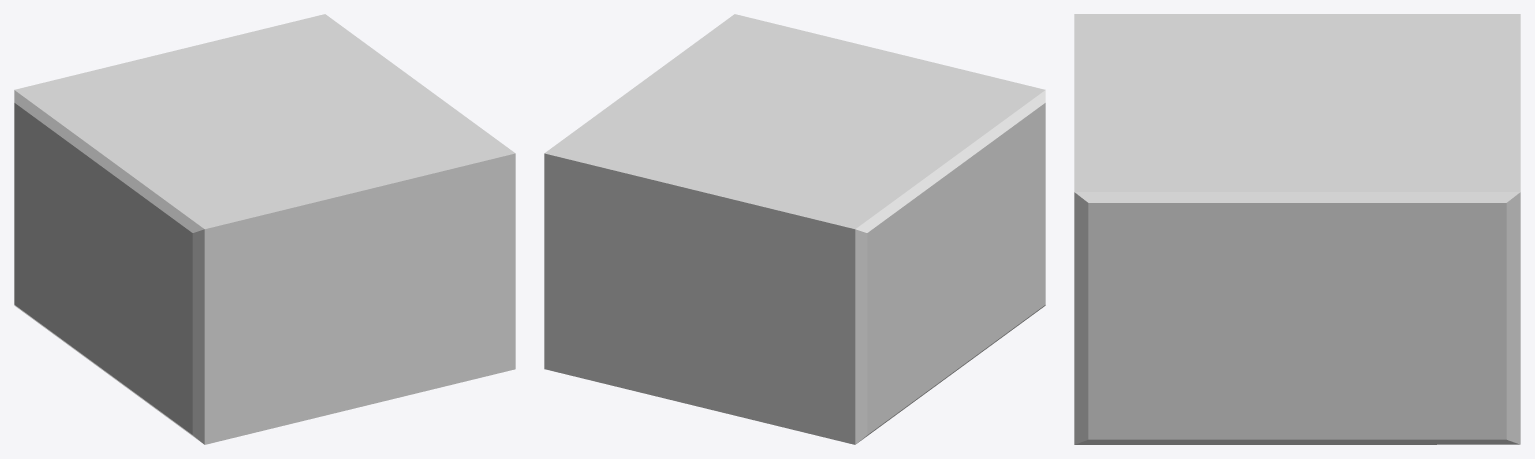
File: Itr_Couch_Inside_Seat_Middle_06.FBX
3 views of the same model, side by side, from view 1: azimuth 30°, elevation 25°; view 2: azimuth 150°, elevation 25°; view 3: azimuth 270°, elevation 25° (orthographic). The views are drawn at different scales.
Parts seen in each view (by area): view 1: Itr_Couch_Inside_Seat_Middle_06; view 2: Itr_Couch_Inside_Seat_Middle_06; view 3: Itr_Couch_Inside_Seat_Middle_06.
Part boxes in pixels (x1,y1,x2,y2): Itr_Couch_Inside_Seat_Middle_06: (14, 14, 515, 444); Itr_Couch_Inside_Seat_Middle_06: (544, 14, 1045, 444); Itr_Couch_Inside_Seat_Middle_06: (1074, 14, 1520, 444).
Size of the model in its own units: 19.21 by 12.3 by 19.68.
